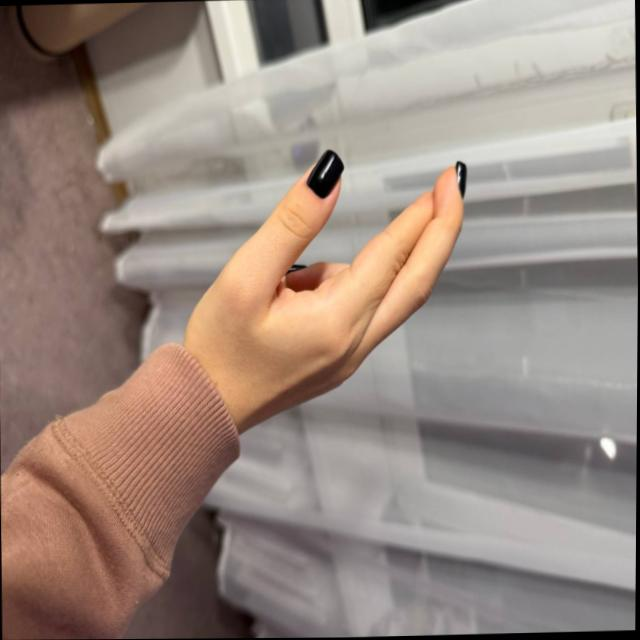ia: (168, 132, 493, 438)
